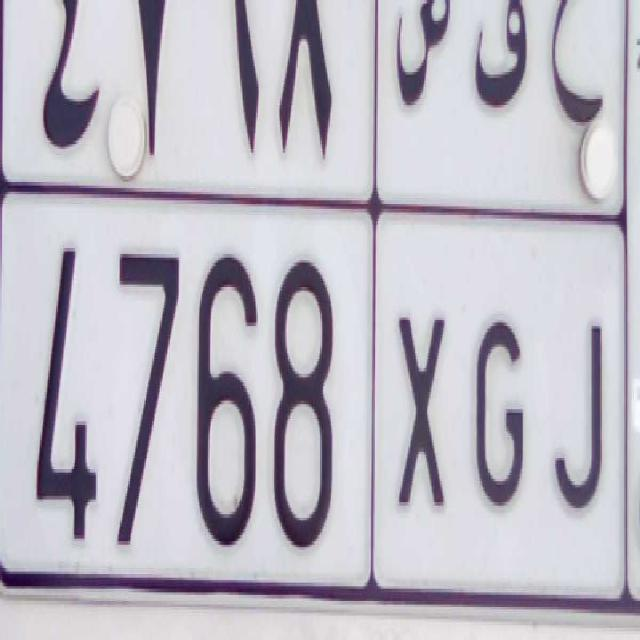license_plate: (10, 197, 622, 640)
